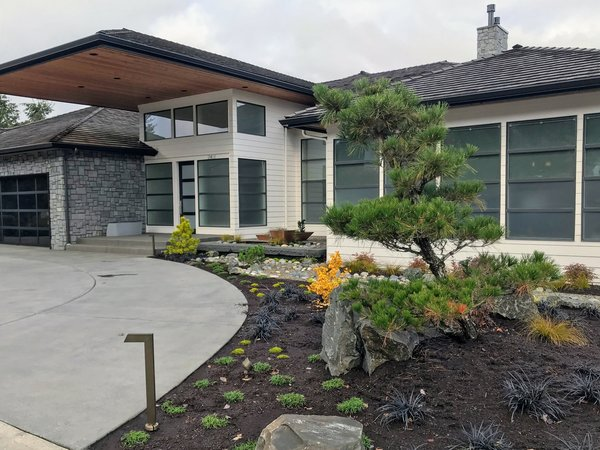tree: (306, 73, 518, 347)
